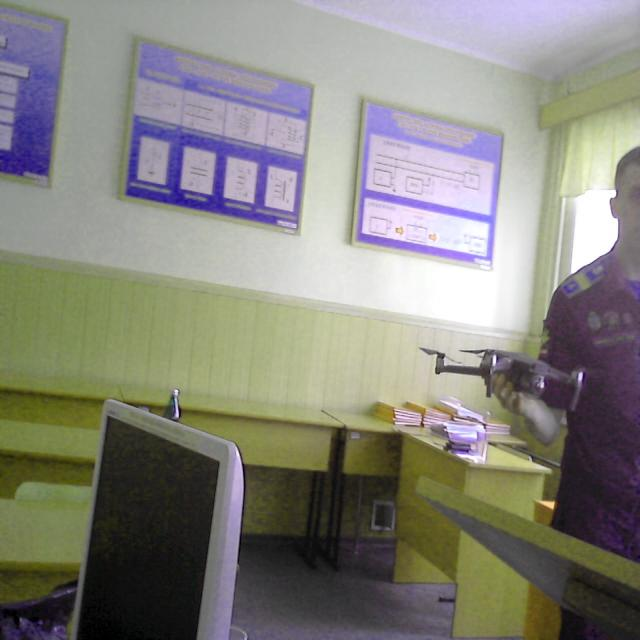drone: (420, 306, 593, 412)
